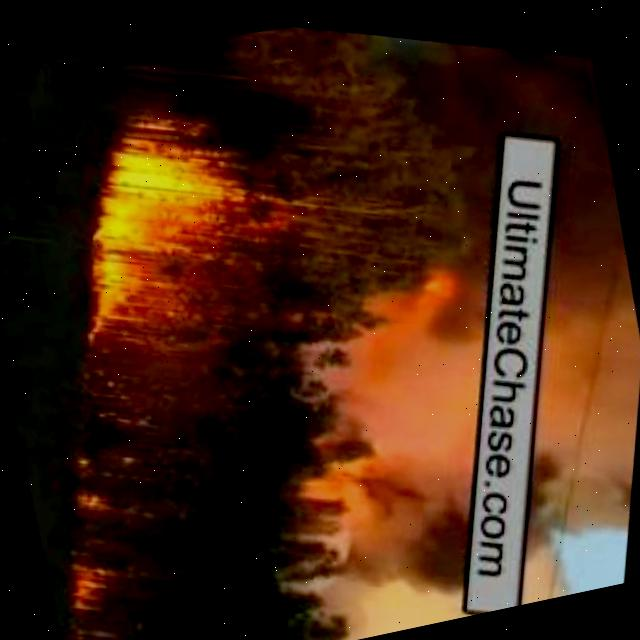fire: (44, 94, 271, 374), (302, 449, 385, 539), (396, 254, 473, 328), (62, 556, 129, 628), (70, 475, 115, 524)
